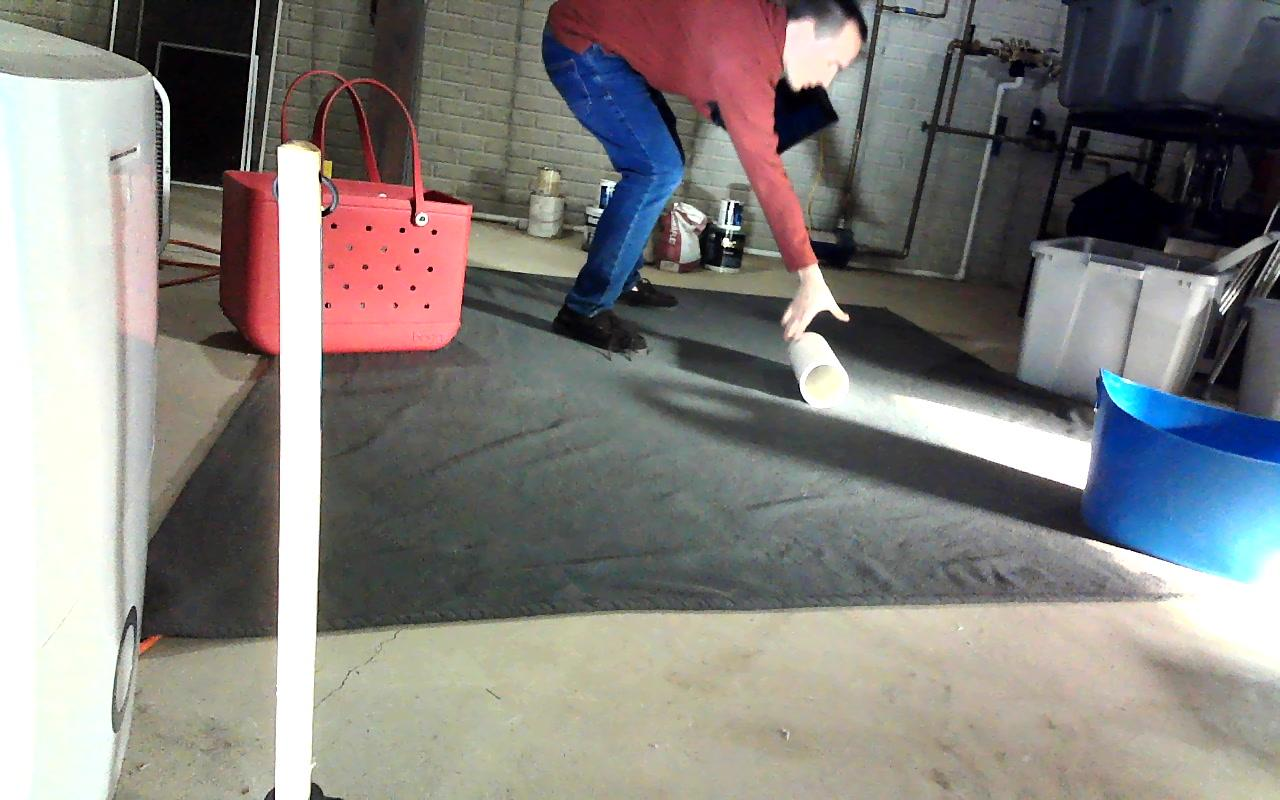coral: (786, 332, 847, 405)
